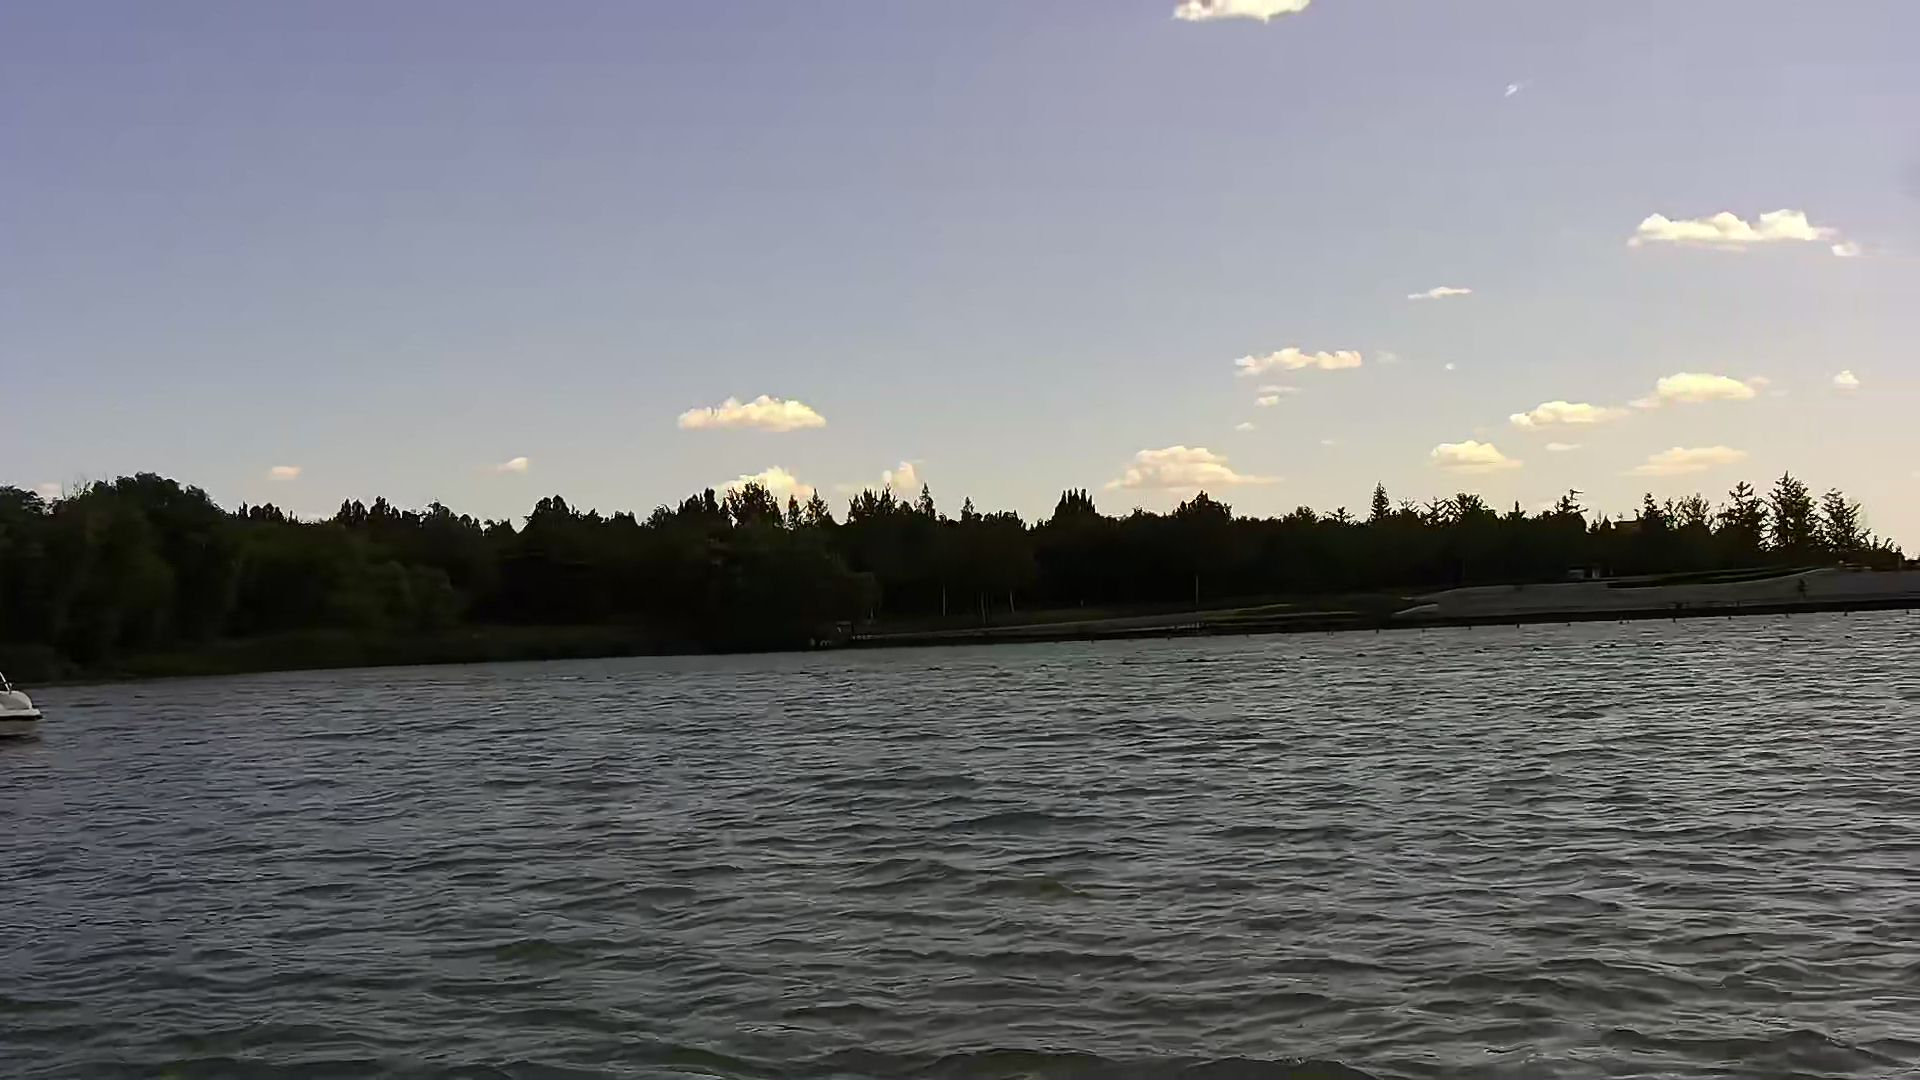harbor: (930, 553, 1920, 651)
